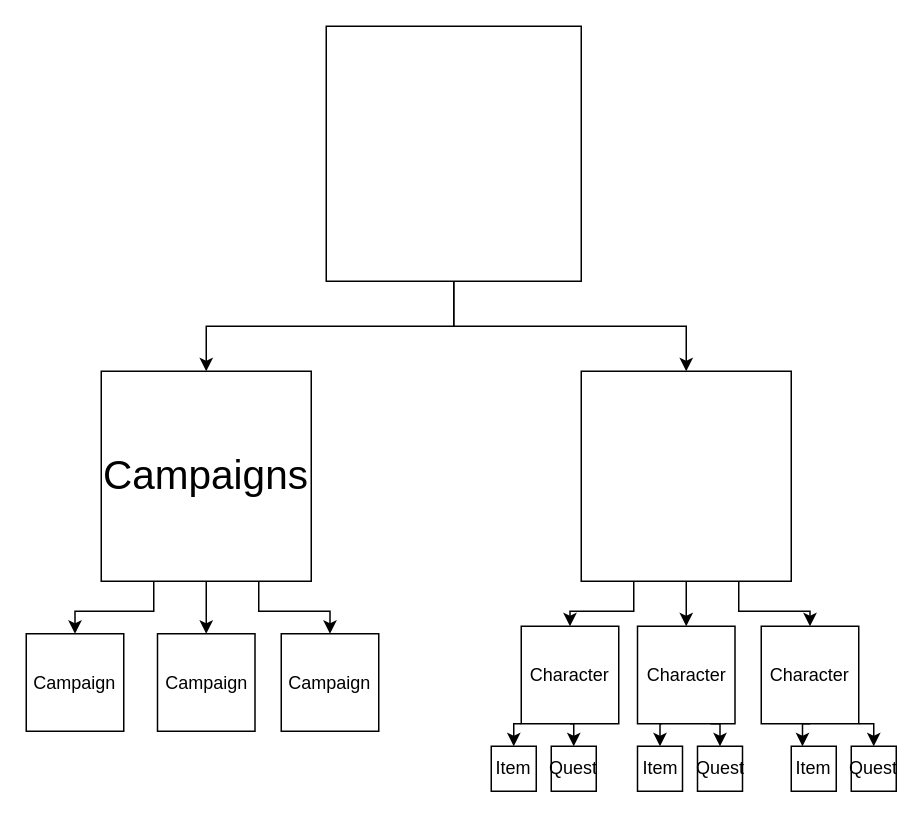
Some shapes in this 924 by 818 pixel diagram are drawn without their labels. Each missing label, with the centre of its shape:
"App" belongs at [453,153].
"Characters" belongs at [685,475].
